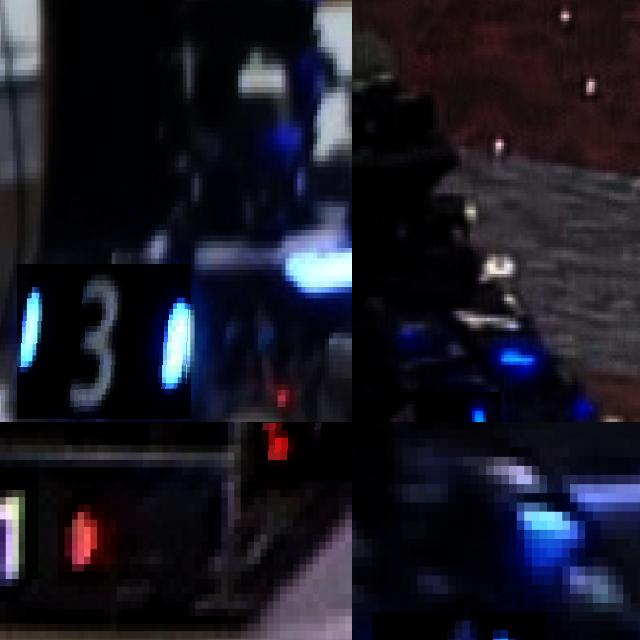B1: (352, 391, 501, 422)
B3: (17, 264, 191, 419)
B4: (372, 612, 547, 640)
R1: (0, 467, 97, 586), (254, 422, 352, 482)
